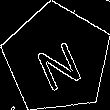N_NW: (29, 28, 85, 90)
